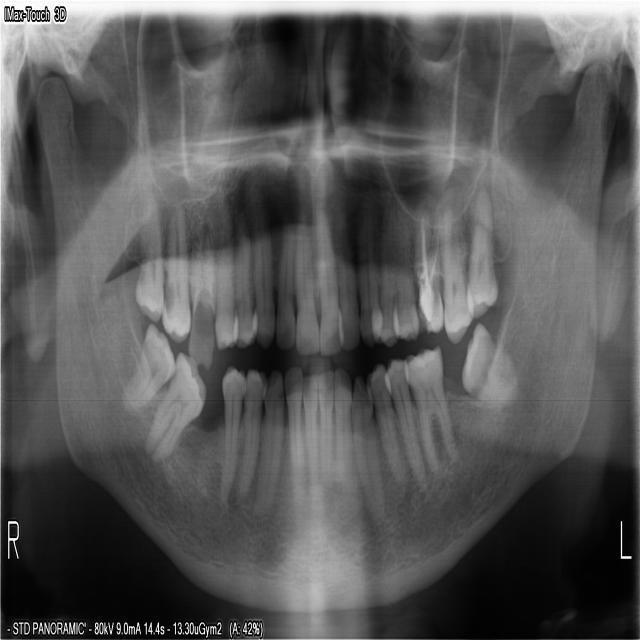LCD: (352, 369, 385, 526)
LCU: (355, 197, 383, 349)
LID: (334, 364, 359, 508), (315, 366, 333, 489)
LIU: (315, 202, 343, 360), (334, 204, 360, 352)
LMD: (407, 340, 462, 483), (457, 321, 517, 422)
LMU: (379, 191, 418, 350), (441, 186, 474, 349), (467, 177, 499, 319), (413, 194, 443, 336)
LPMD: (385, 355, 430, 493), (365, 358, 410, 487)
RCD: (249, 362, 283, 517)
RCU: (245, 180, 272, 352)
RID: (282, 362, 304, 513), (300, 369, 319, 505)
RIU: (293, 217, 320, 358), (272, 218, 293, 352)
RMD: (140, 347, 207, 467), (119, 321, 174, 420)
RMU: (185, 201, 213, 370), (159, 191, 189, 345), (130, 177, 161, 324)
RPMD: (236, 362, 264, 502), (217, 360, 243, 507)
RPMU: (230, 198, 252, 352), (212, 194, 230, 357)
